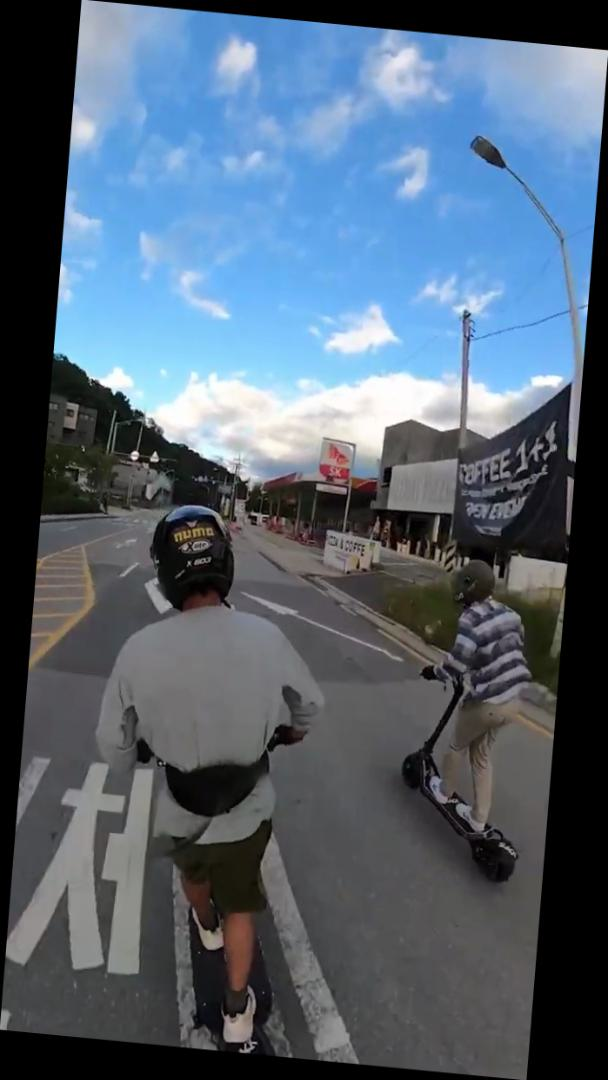helmet: (71, 495, 338, 1058), (389, 551, 544, 883)
